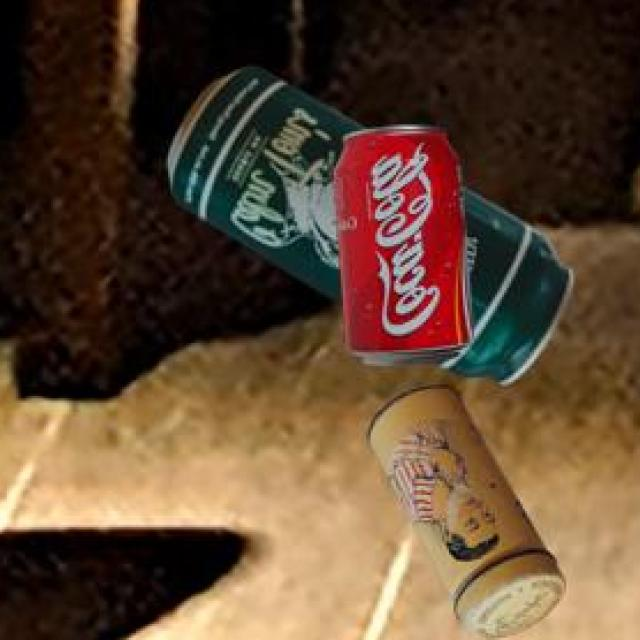logam: (172, 63, 577, 381), (372, 383, 567, 637), (337, 123, 475, 363)
